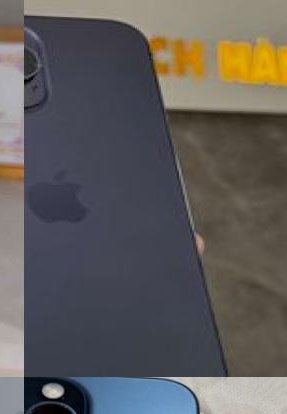scratch: (170, 140, 208, 238), (24, 377, 86, 414)
